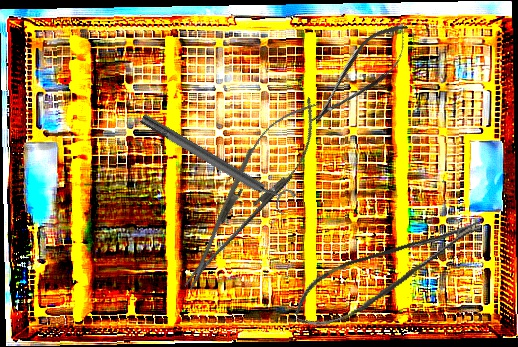Fixation Ring: (136, 104, 297, 218)
Micro Scissor: (284, 213, 496, 337), (298, 11, 423, 138)
Needle Holder: (164, 85, 335, 304)
